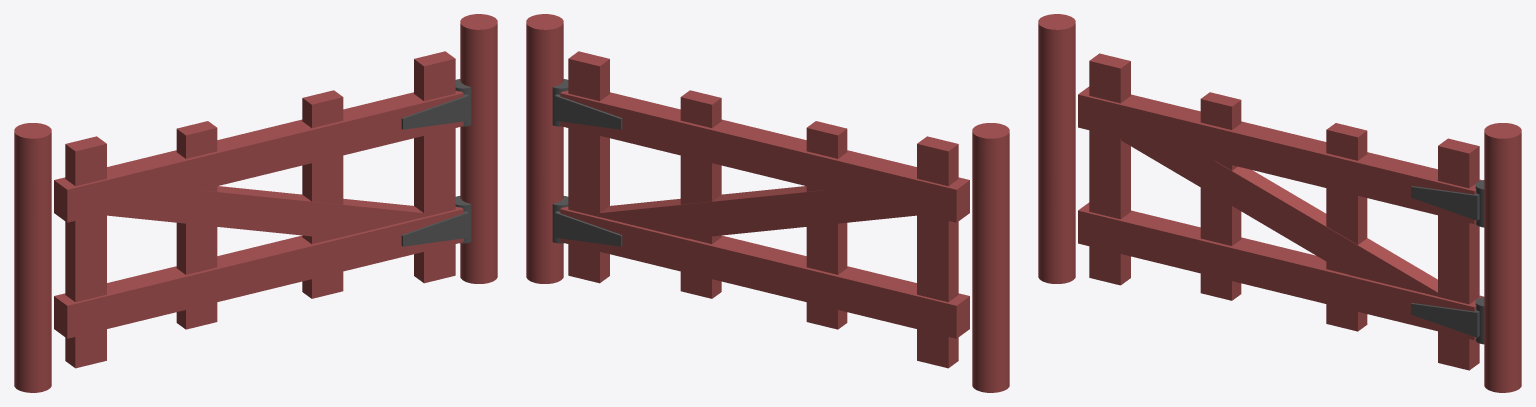
Rendered from FenceGate.fbx.
3 renders of one model, left to right at view 1: azimuth 30°, elevation 25°; view 2: azimuth 150°, elevation 25°; view 3: azimuth 330°, elevation 25°, orthographic.
Parts seen in each view (by area): view 1: pCube13, pCylinder4, pCylinder3; view 2: pCube13, pCylinder4, pCylinder3; view 3: pCube13, pCylinder3, pCylinder4.
Boxes of the visible parts, bbox=[...] form: pCube13: bbox=[54, 51, 471, 368]; pCylinder4: bbox=[14, 123, 51, 392]; pCylinder3: bbox=[460, 14, 497, 283]; pCube13: bbox=[552, 51, 969, 368]; pCylinder4: bbox=[972, 123, 1009, 392]; pCylinder3: bbox=[526, 14, 563, 283]; pCube13: bbox=[1078, 53, 1484, 370]; pCylinder3: bbox=[1484, 123, 1521, 392]; pCylinder4: bbox=[1038, 14, 1075, 283].
Bounding box in the file's own units: 20.14 × 10.22 × 1.38.
